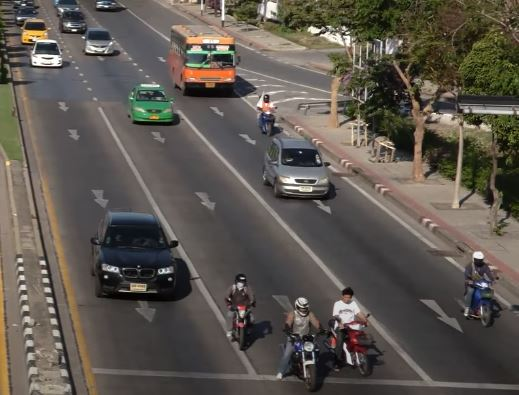Bus: (168, 24, 240, 94)
Car: (88, 210, 181, 299), (262, 136, 330, 200), (128, 84, 174, 125), (30, 37, 64, 69), (80, 27, 116, 57), (20, 19, 50, 47), (58, 11, 88, 34), (53, 1, 81, 15), (15, 6, 37, 23)
Motorcycle: (328, 287, 375, 377), (281, 297, 326, 390), (463, 250, 500, 327), (225, 273, 256, 348), (257, 93, 277, 137)
